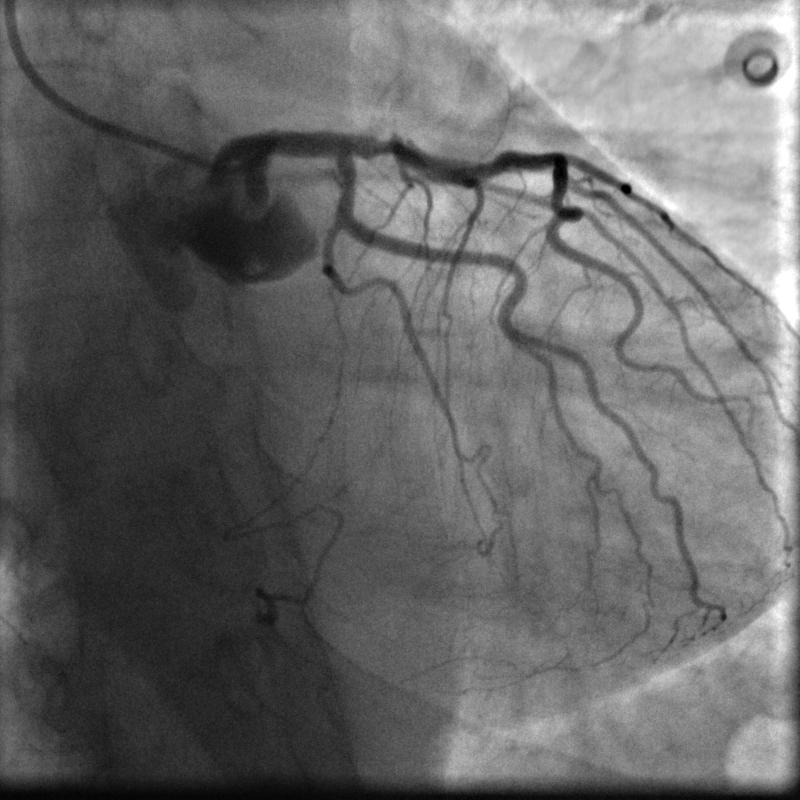Stenosis: (364, 131, 398, 158)
